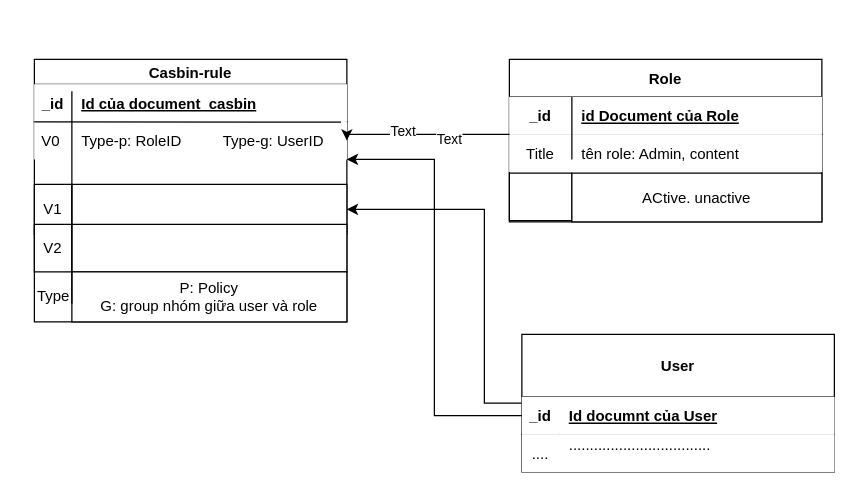
Some shapes in this 856 by 494 pixel diagram are drawn without their labels. Here are the shapes that lost their labels. From the top down, the centre of each, then its label:
(209,208): P(Tên tài nguyêm) G(RoleID)
(540,196): Status
(209,247): Action: read, write, delete hoặc get,post,...
